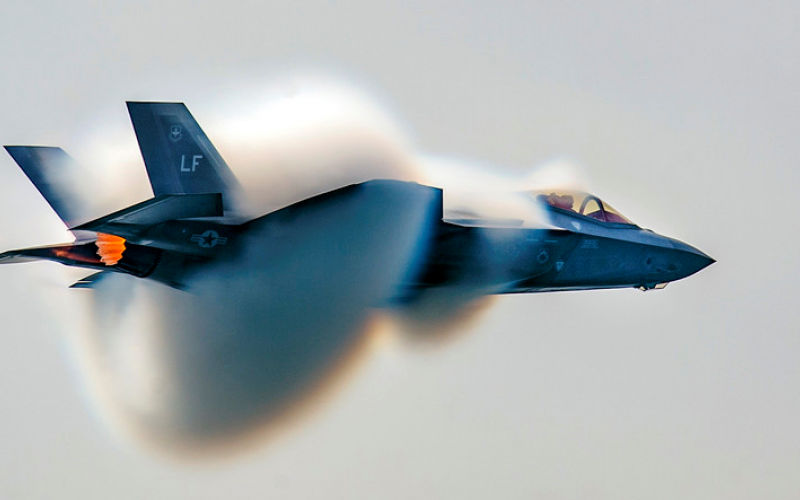F-35 Lightning: (5, 74, 724, 393)
